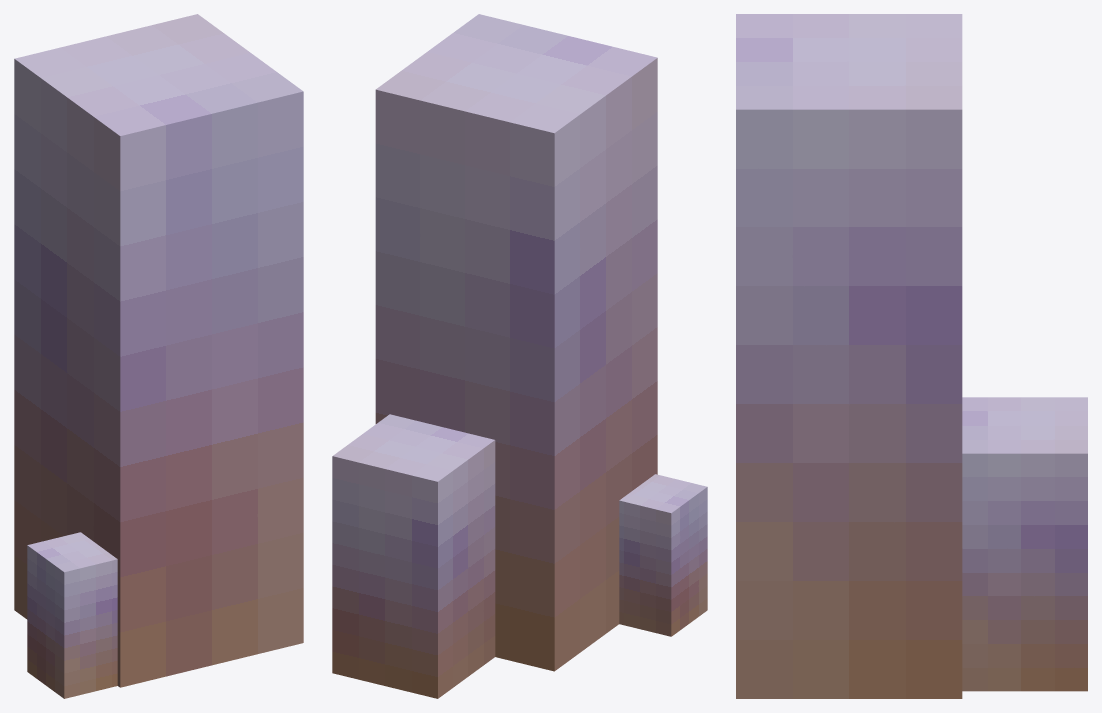
Rendered from sperrylite_crystal_three.obj.
The picture shows the model from 3 angles, left to right: view 1: azimuth 30°, elevation 25°; view 2: azimuth 150°, elevation 25°; view 3: azimuth 270°, elevation 25°; orthographic projection. The views are drawn at different scales.
Visible parts, largest first — view 1: Crystal5_Cube.008; view 2: Crystal5_Cube.008; view 3: Crystal5_Cube.008.
Part boxes in pixels (left/top/right/bottom): Crystal5_Cube.008: left=14, top=14, right=303, bottom=698; Crystal5_Cube.008: left=332, top=14, right=707, bottom=698; Crystal5_Cube.008: left=736, top=14, right=1087, bottom=698.
Bounding box in the file's own units: 0.1959 × 0.4361 × 0.2358.
